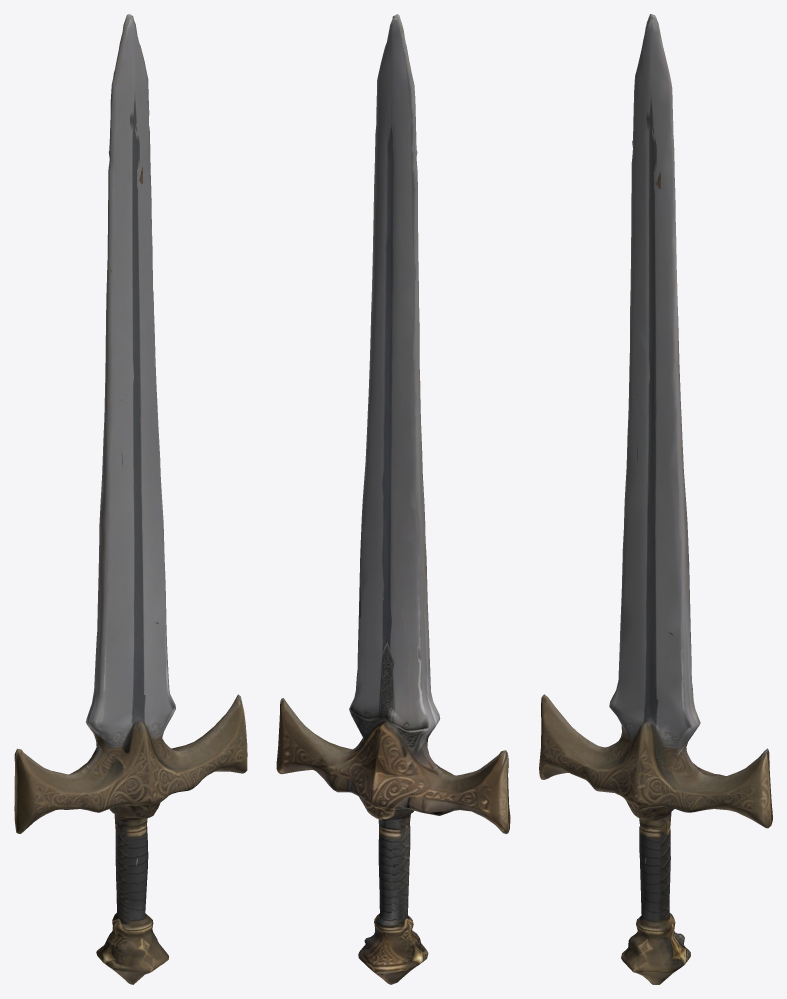
Rendered from sword.glb.
3 renders of one model, left to right at view 1: azimuth 30°, elevation 25°; view 2: azimuth 150°, elevation 25°; view 3: azimuth 330°, elevation 25°, orthographic.
Size of the model in its own units: 0.2358 by 0.95 by 0.0778.
Materials: 1 (1 with a texture image).
